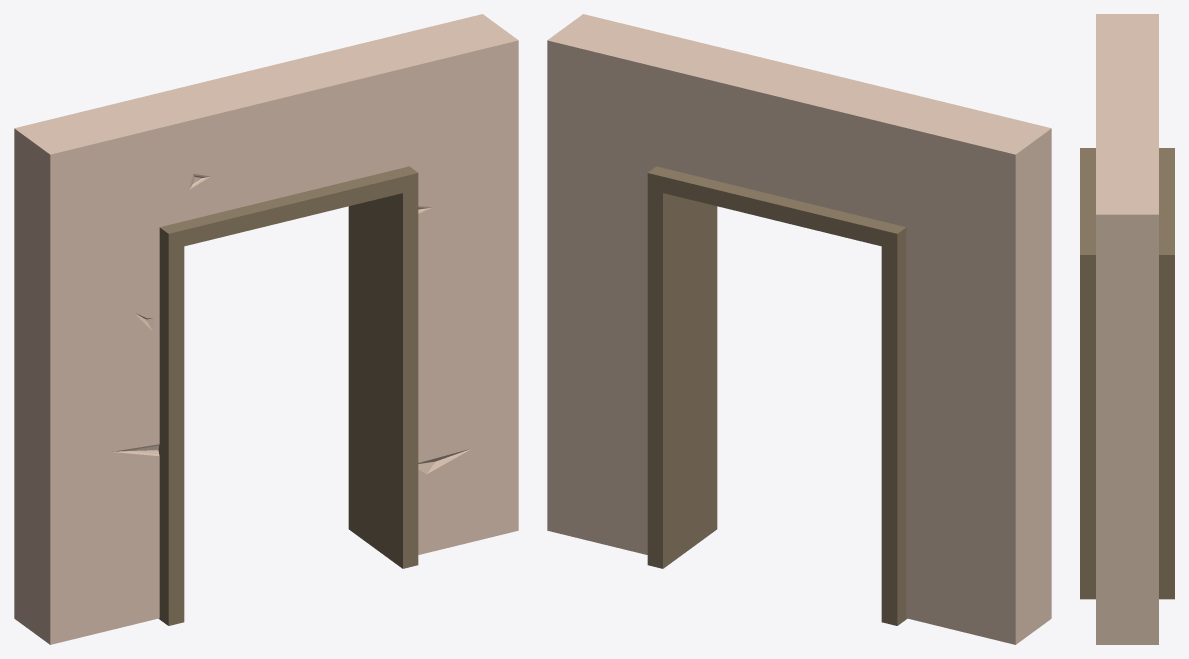
File: greek_wall_2_door.fbx
3 views of the same model, side by side, from view 1: azimuth 30°, elevation 25°; view 2: azimuth 150°, elevation 25°; view 3: azimuth 270°, elevation 25° (orthographic). The views are drawn at different scales.
Parts seen in each view (by area): view 1: Cube.023; view 2: Cube.023; view 3: Cube.023.
Boxes of the visible parts, box(x1,y1,x2,y2) form: Cube.023: box(14, 14, 518, 644); Cube.023: box(547, 14, 1051, 644); Cube.023: box(1080, 14, 1174, 644).
Size of the model in its own units: 300 by 301 by 60.
